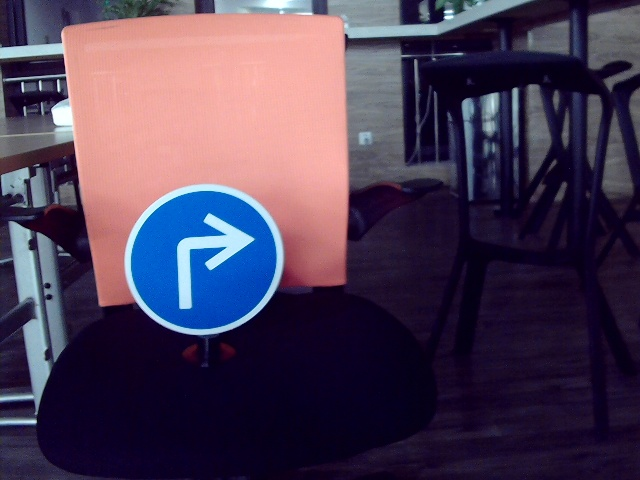turn_right: (162, 212, 254, 307)
